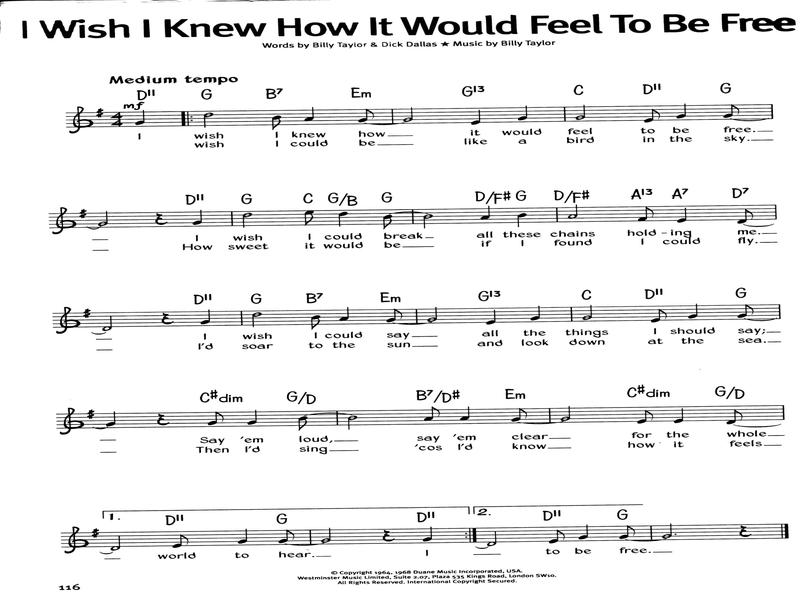B: (202, 112, 214, 129), (98, 209, 109, 227), (582, 304, 593, 322), (422, 213, 434, 229), (575, 103, 586, 120), (102, 315, 113, 332), (251, 311, 262, 328), (560, 405, 571, 422), (486, 530, 497, 547), (403, 107, 414, 123), (567, 204, 578, 220), (242, 212, 253, 228), (427, 307, 438, 323), (347, 415, 358, 430), (662, 524, 673, 539), (111, 535, 121, 551), (321, 528, 331, 544)
C: (636, 409, 655, 424), (737, 208, 754, 224), (638, 206, 655, 222), (727, 408, 743, 424), (358, 108, 375, 123), (644, 108, 661, 123), (723, 103, 740, 118), (651, 308, 668, 323), (424, 406, 441, 421), (172, 534, 189, 549), (549, 529, 566, 544), (619, 525, 636, 540), (387, 308, 403, 323), (737, 304, 754, 318), (511, 408, 528, 422), (208, 411, 225, 425), (278, 529, 295, 543), (381, 213, 393, 230), (270, 115, 282, 131), (303, 210, 315, 225), (310, 314, 321, 330), (297, 416, 308, 431)
CS: (55, 306, 82, 335), (63, 525, 90, 553), (68, 105, 94, 134), (59, 407, 85, 436), (51, 206, 76, 235)
N: (246, 410, 258, 426), (338, 211, 349, 228), (578, 524, 589, 540), (688, 303, 699, 319), (530, 305, 541, 321), (486, 309, 497, 325), (339, 306, 350, 322), (516, 212, 527, 228), (677, 207, 688, 223), (676, 103, 687, 119), (517, 105, 528, 121), (471, 109, 482, 125), (304, 106, 315, 122), (674, 407, 684, 424), (193, 209, 203, 226), (480, 205, 491, 220), (423, 526, 433, 542), (238, 528, 248, 544), (106, 411, 116, 427), (460, 406, 470, 422), (201, 309, 211, 325), (135, 110, 145, 125)
P: (674, 533, 677, 536)
SOS: (91, 526, 101, 539), (96, 107, 105, 119), (86, 408, 95, 419), (83, 308, 92, 318), (79, 208, 87, 218)
